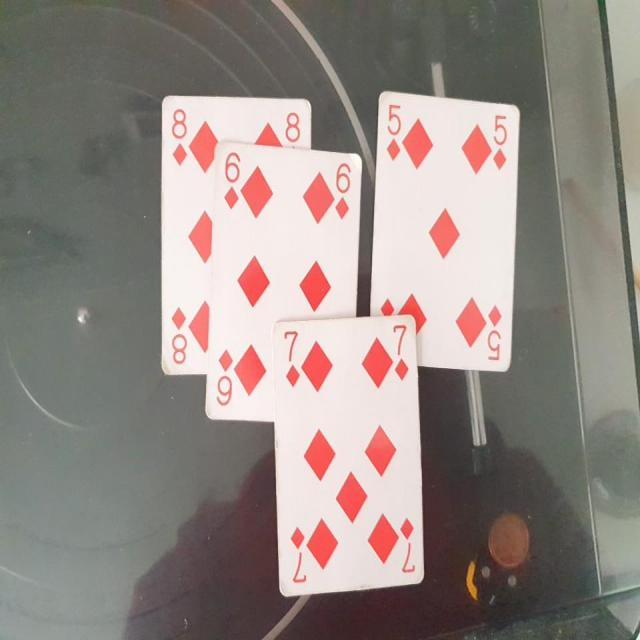5 Diamonds: (368, 90, 520, 373)
6 Diamonds: (202, 142, 359, 422)
7 Diamonds: (272, 313, 424, 596)
8 Diamonds: (162, 94, 314, 379)
